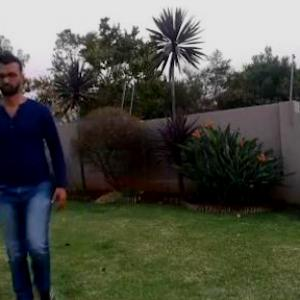follow: (1, 61, 63, 299)
